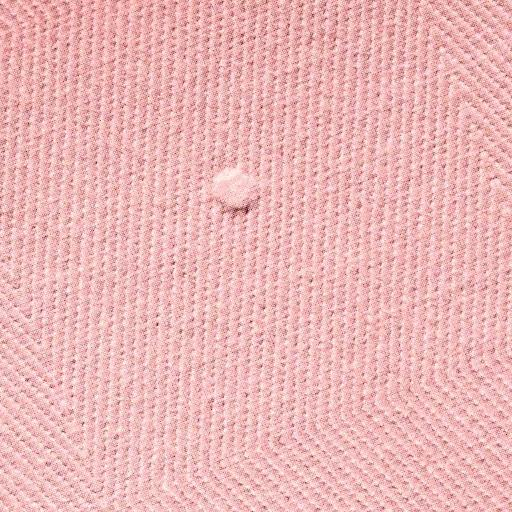knot: (199, 165, 275, 215)
